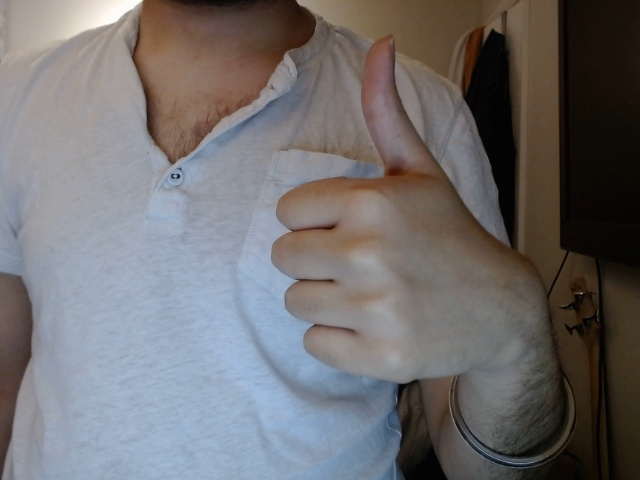Thumbs up: (267, 26, 489, 383)
